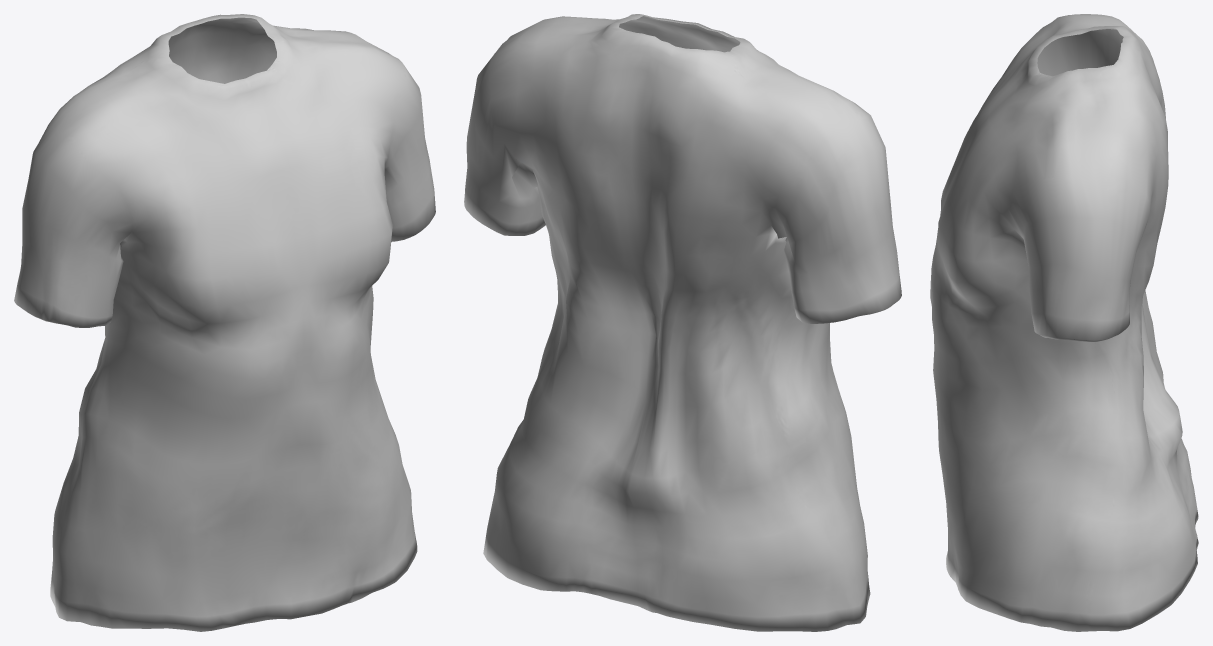
File: top_white_tee.gltf
3 renders of one model, left to right at view 1: azimuth 30°, elevation 25°; view 2: azimuth 150°, elevation 25°; view 3: azimuth 270°, elevation 25°, orthographic. The views are drawn at different scales.
Visible parts, largest first — view 1: top_white_tee; view 2: top_white_tee; view 3: top_white_tee.
Part boxes in pixels (x1=…): top_white_tee: x1=14, y1=14, x2=435, y2=631; top_white_tee: x1=464, y1=14, x2=901, y2=631; top_white_tee: x1=930, y1=14, x2=1198, y2=631.
Bounding box in the file's own units: 0.4648 × 0.5891 × 0.2774.
Materials: 1 (1 with a texture image).
